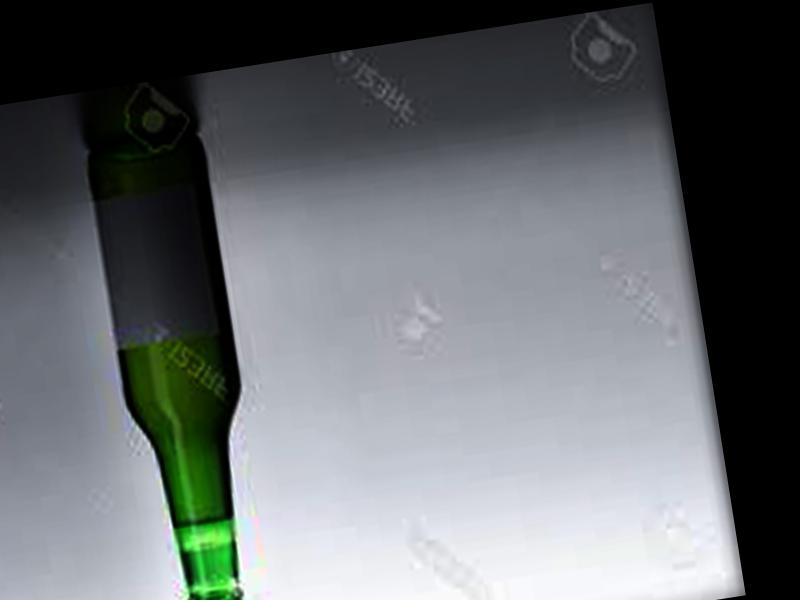Beer: (84, 128, 278, 600)
